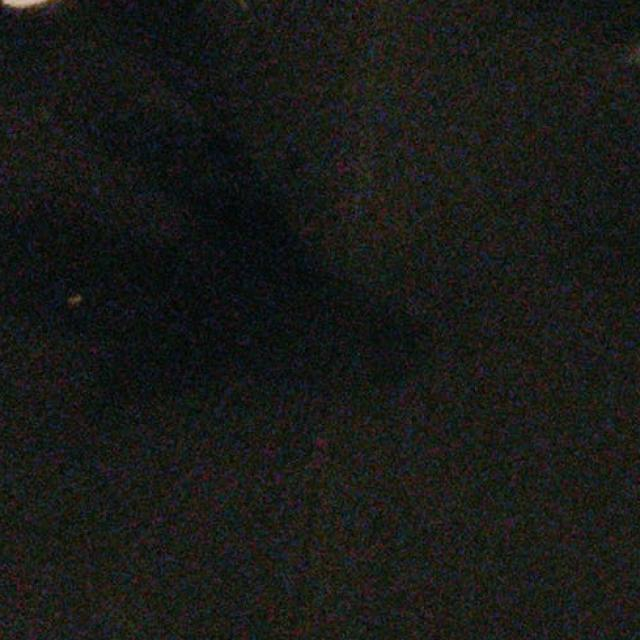fish: (1, 1, 640, 640)
